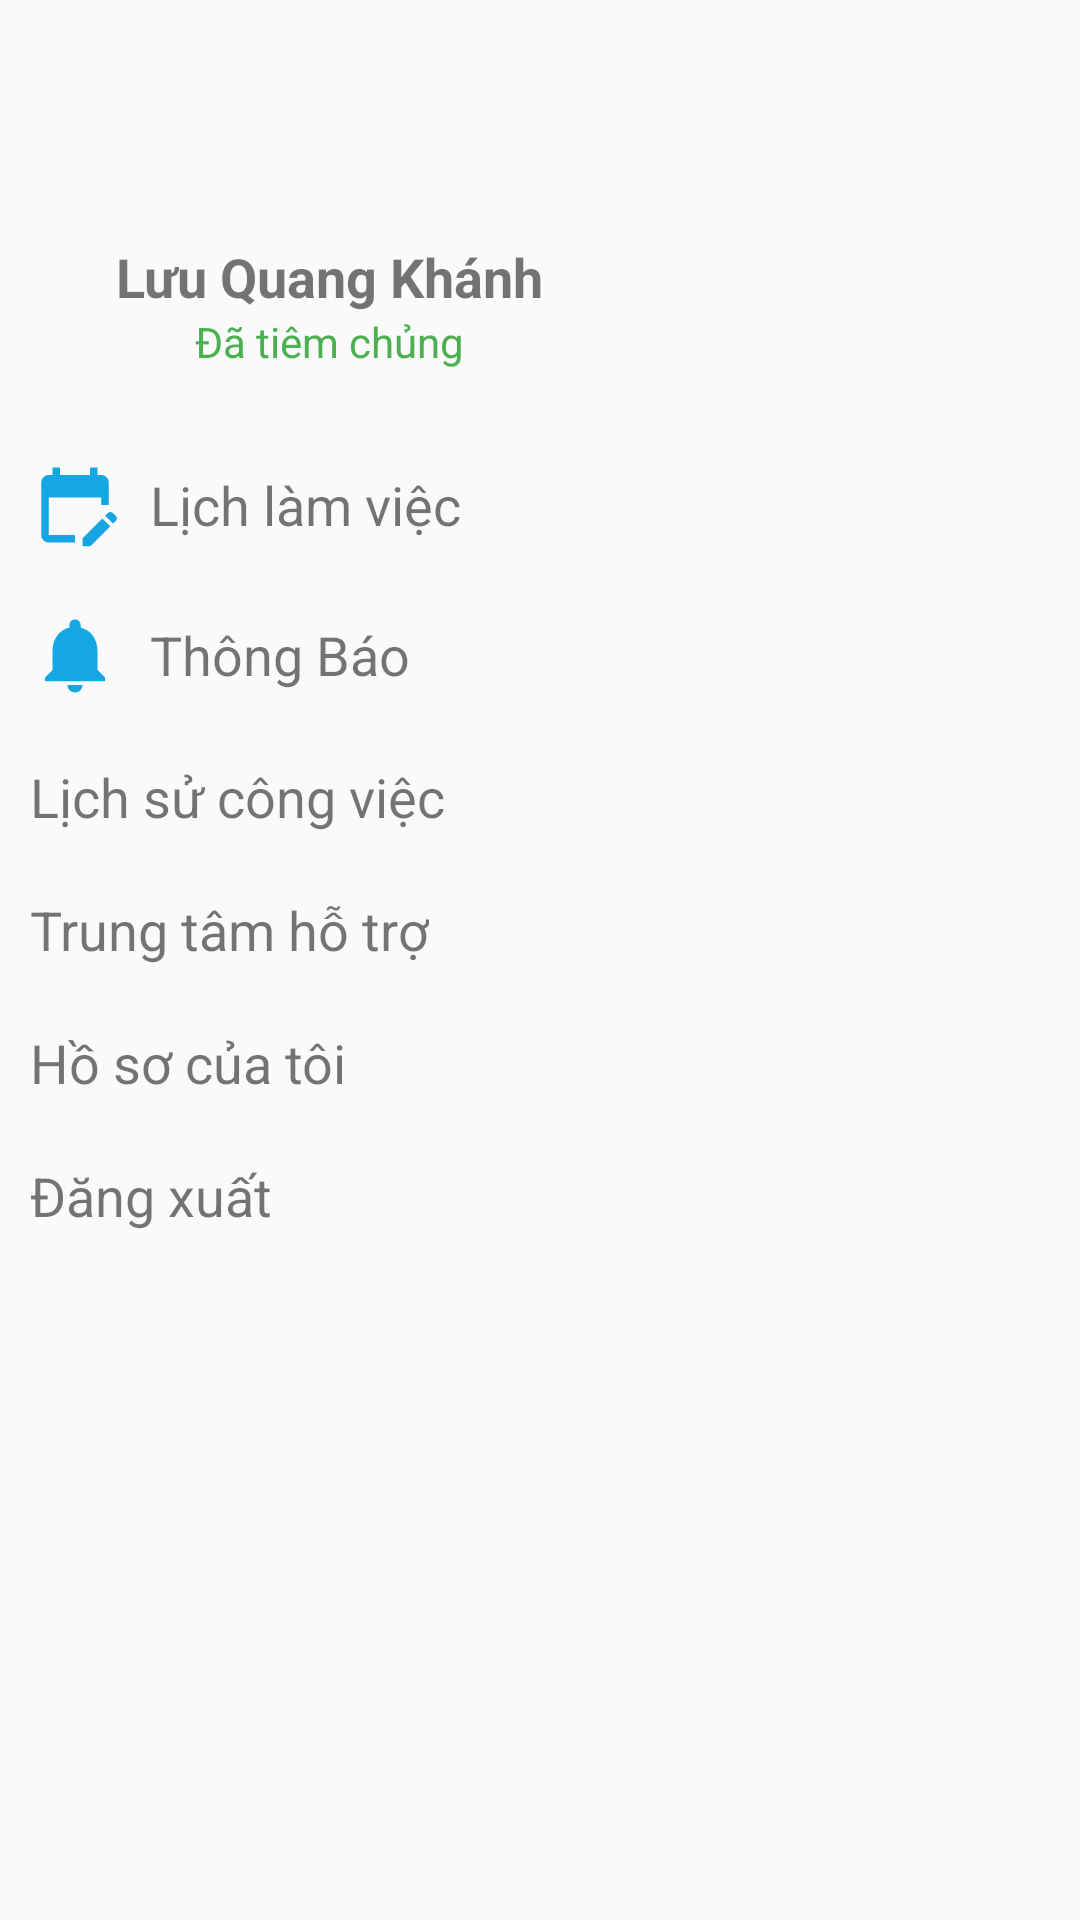

Named icons in this screenshot (1080 × 1920) and their bounding boxes, (x1, y1, x2, y2):
lich: (41, 467, 117, 547)
notifications: (45, 619, 105, 693)
